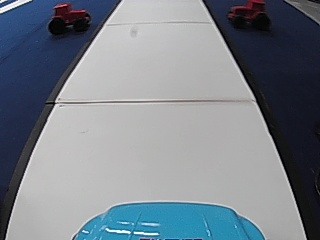tractor: (47, 2, 92, 35), (226, 0, 269, 30)
